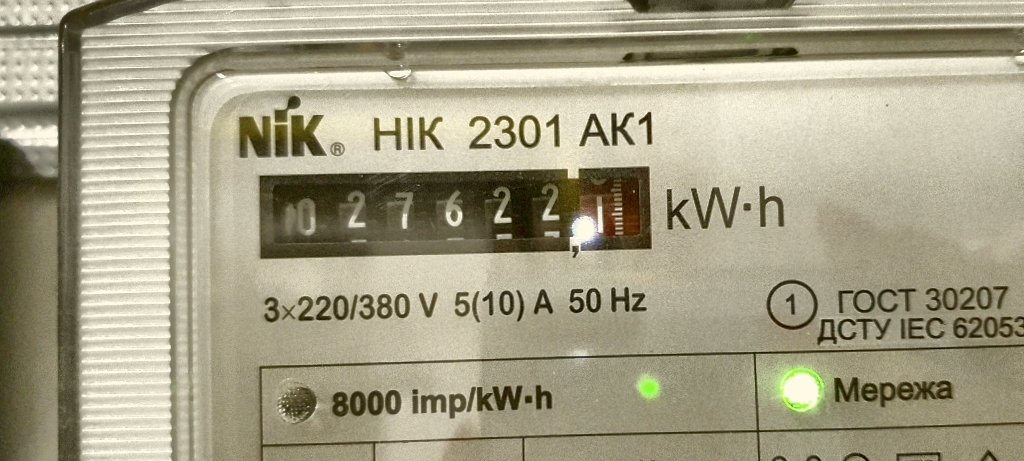0: (294, 194, 319, 237)
1: (591, 191, 608, 235)
2: (489, 183, 514, 225), (344, 188, 368, 231), (539, 180, 562, 222)
6: (442, 187, 464, 228)
7: (393, 189, 416, 232)
screen: (246, 156, 665, 265)
